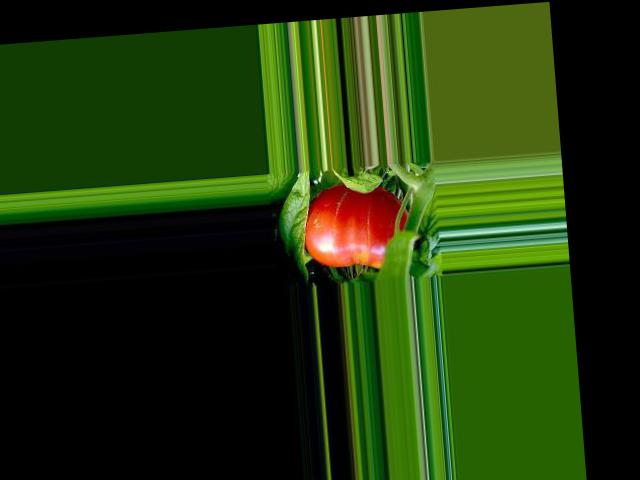tomato: (299, 180, 412, 274)
